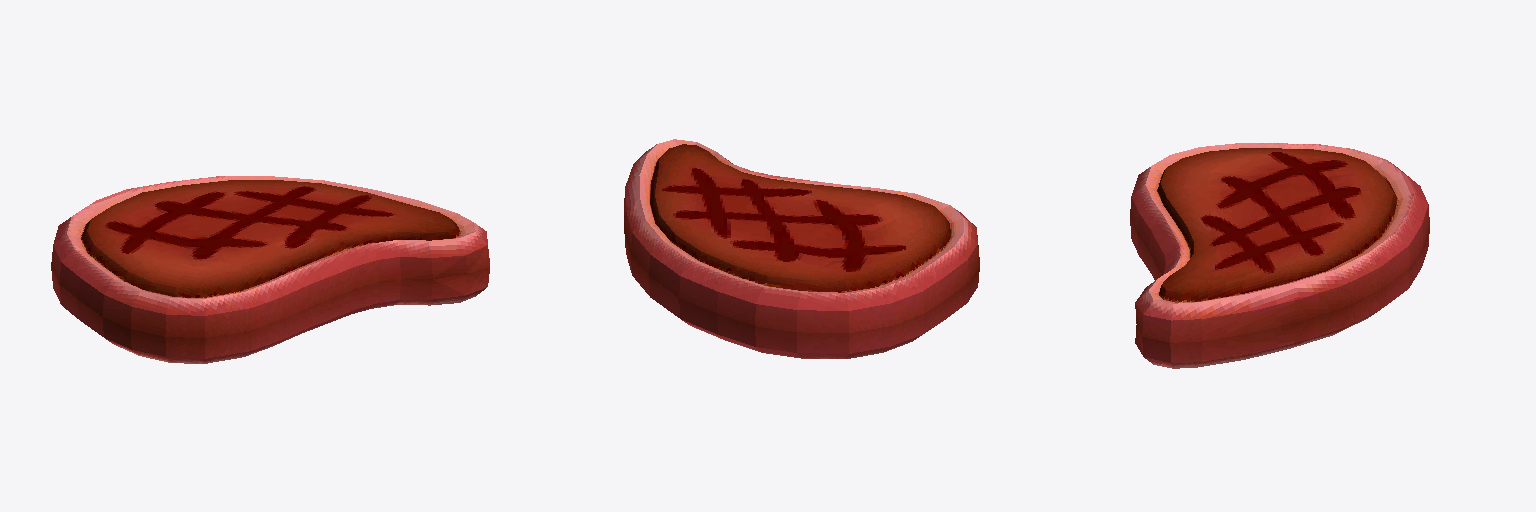
3 views of the same model, side by side, from view 1: azimuth 30°, elevation 25°; view 2: azimuth 150°, elevation 25°; view 3: azimuth 270°, elevation 25° (orthographic).
Parts seen in each view (by area): view 1: Steak; view 2: Steak; view 3: Steak.
Part boxes in pixels (x1,y1,x2,y2): Steak: (51,176,489,363); Steak: (624,139,979,358); Steak: (1130,143,1429,368).
Bounding box in the file's own units: 0.2442 × 0.0515 × 0.1784.
1 materials, 1 textured.